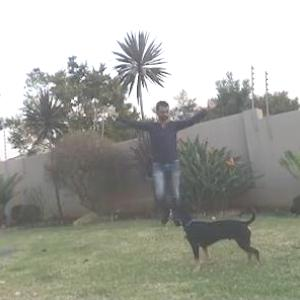takeoff: (92, 101, 210, 223)
